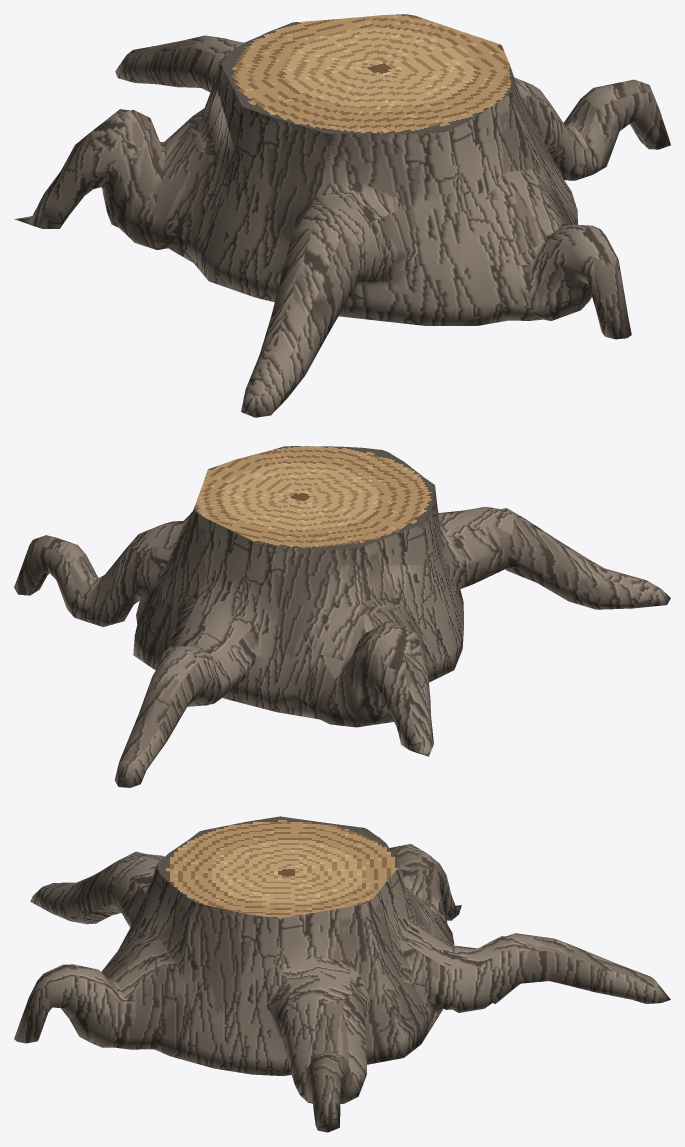
Rendered from environment_elm2_stump_v72.fbx.
The picture shows the model from 3 angles, top to bottom: view 1: azimuth 30°, elevation 25°; view 2: azimuth 150°, elevation 25°; view 3: azimuth 270°, elevation 25°; orthographic projection. The views are drawn at different scales.
Visible parts, largest first — view 1: environment_elm2_stump_v72; view 2: environment_elm2_stump_v72; view 3: environment_elm2_stump_v72.
Part boxes in pixels (bbox=[...]): environment_elm2_stump_v72: bbox=[14, 14, 670, 417]; environment_elm2_stump_v72: bbox=[14, 446, 670, 787]; environment_elm2_stump_v72: bbox=[14, 816, 670, 1132].
Size of the model in its own units: 436 by 115 by 508.
Materials: 2 (2 with a texture image).
